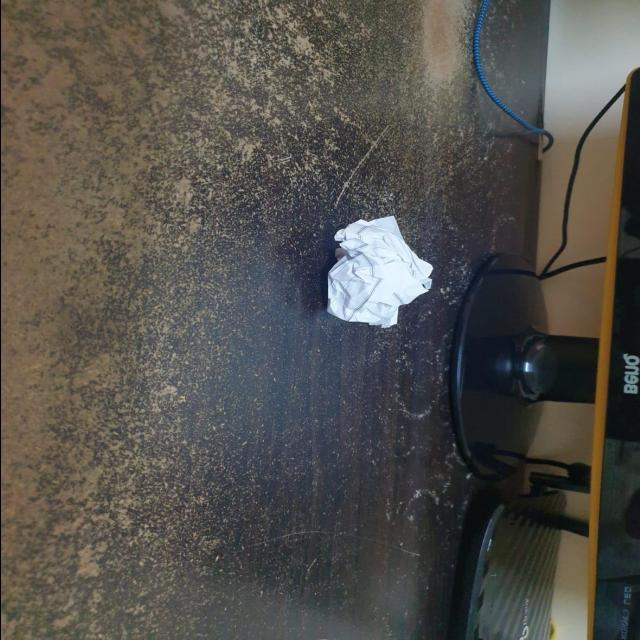kertas: (314, 212, 442, 328)
